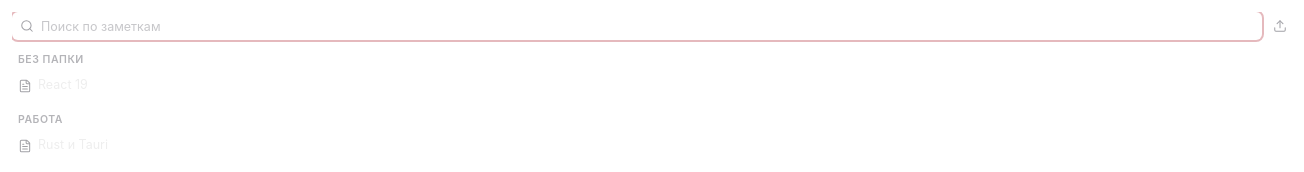
Scenario: NotesPanel › стрелки двигают выбор, Enter открывает и закрывает подсказки
Type "рендер" into the dropdown labelled "Поиск по заметкам". click: (637, 26)
box: [12,12,1262,40]
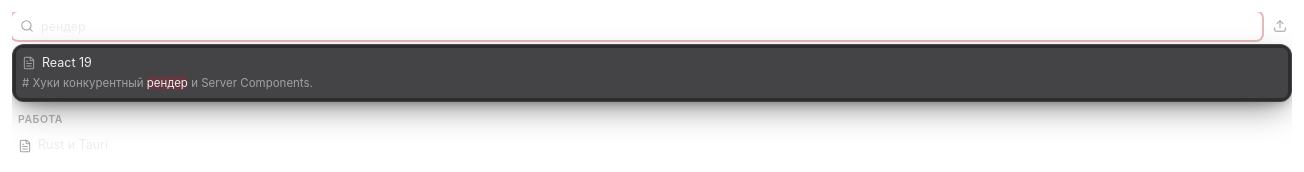
Press ArrowDown in the dropdown named "Поиск по заметкам", box [12,12,1262,40]
Press Enter in the dropdown named "Поиск по заметкам", box [12,12,1262,40]
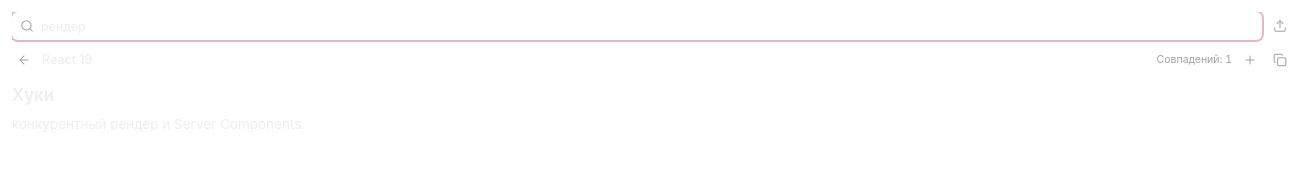
expect the list is gone: met
